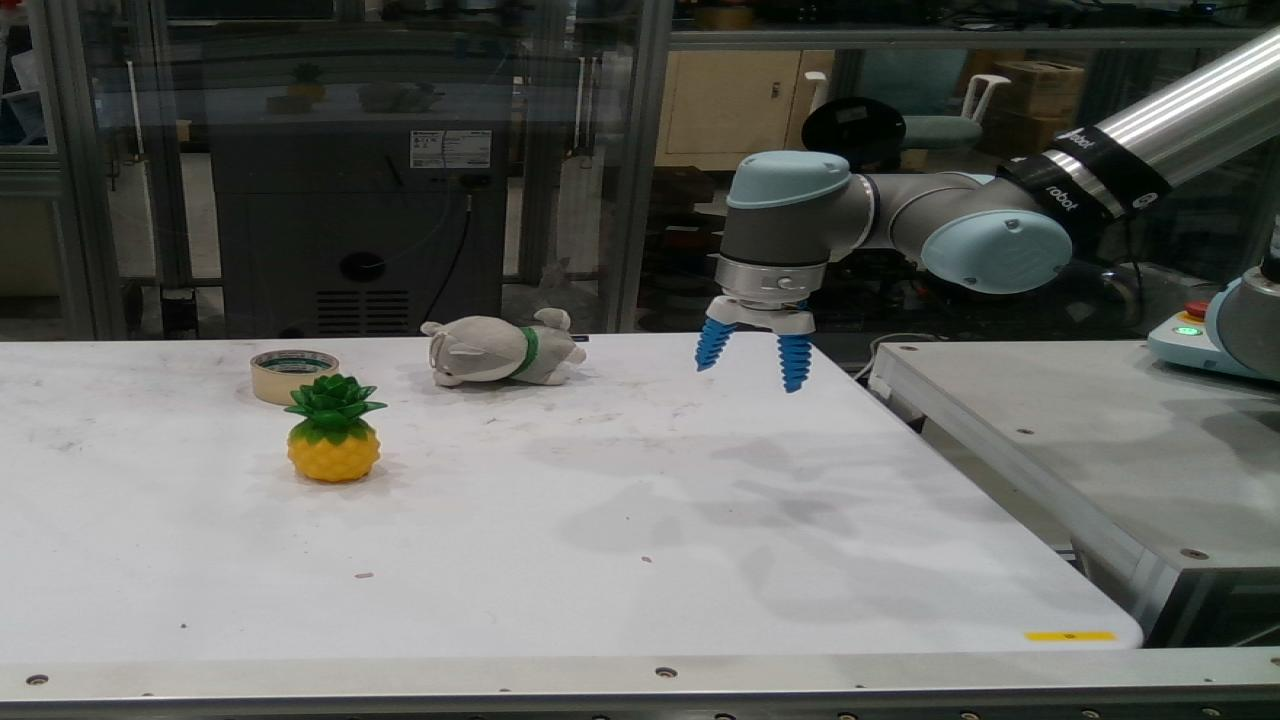UR5: (704, 24, 1279, 336), (1204, 202, 1279, 382)
gripper_left: (696, 318, 735, 372)
gripper_right: (777, 334, 810, 393)
target: (421, 308, 587, 388), (283, 373, 390, 482), (250, 349, 340, 405)
